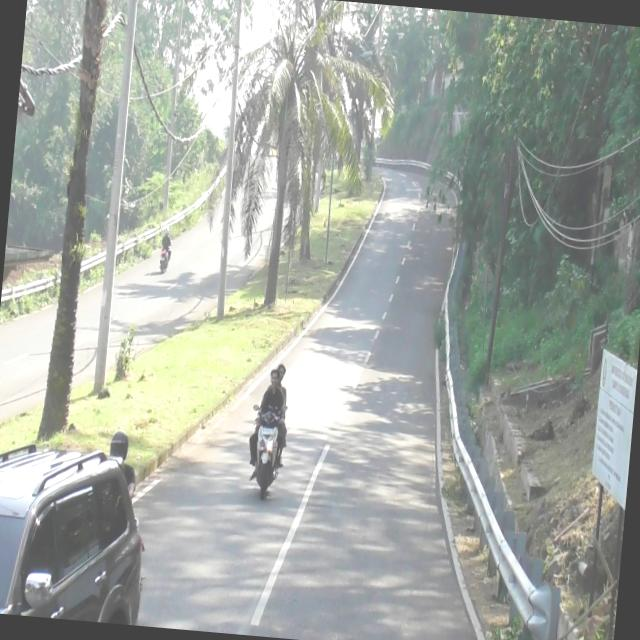motorcycle: (248, 402, 287, 488), (158, 246, 172, 273)
person: (248, 362, 294, 471), (251, 368, 288, 479), (160, 228, 173, 264)
rider_region: (244, 362, 294, 505), (154, 226, 174, 274)
